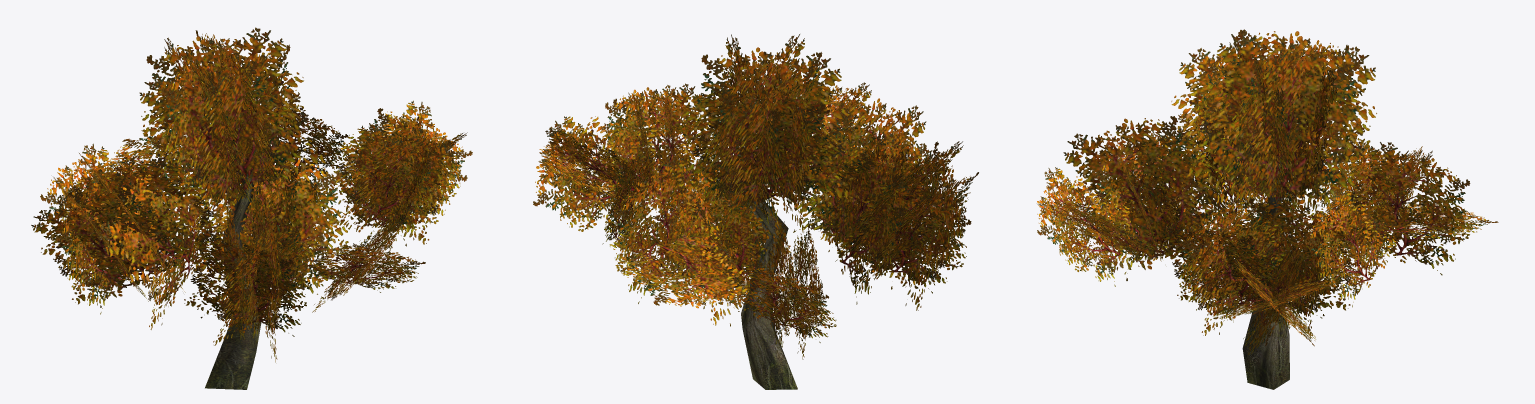
Rendered from Tree04_b.FBX.
3 renders of one model, left to right at view 1: azimuth 30°, elevation 25°; view 2: azimuth 150°, elevation 25°; view 3: azimuth 270°, elevation 25°, orthographic.
Visible parts, largest first — view 1: tree04; view 2: tree04; view 3: tree04.
Part boxes in pixels (box(x1,y1,x2,y2)): tree04: box(31, 27, 472, 389); tree04: box(533, 34, 978, 389); tree04: box(1037, 29, 1498, 389).
Bounding box in the file's own units: 1395 × 1036 × 1295.
Materials: 1 (1 with a texture image).
